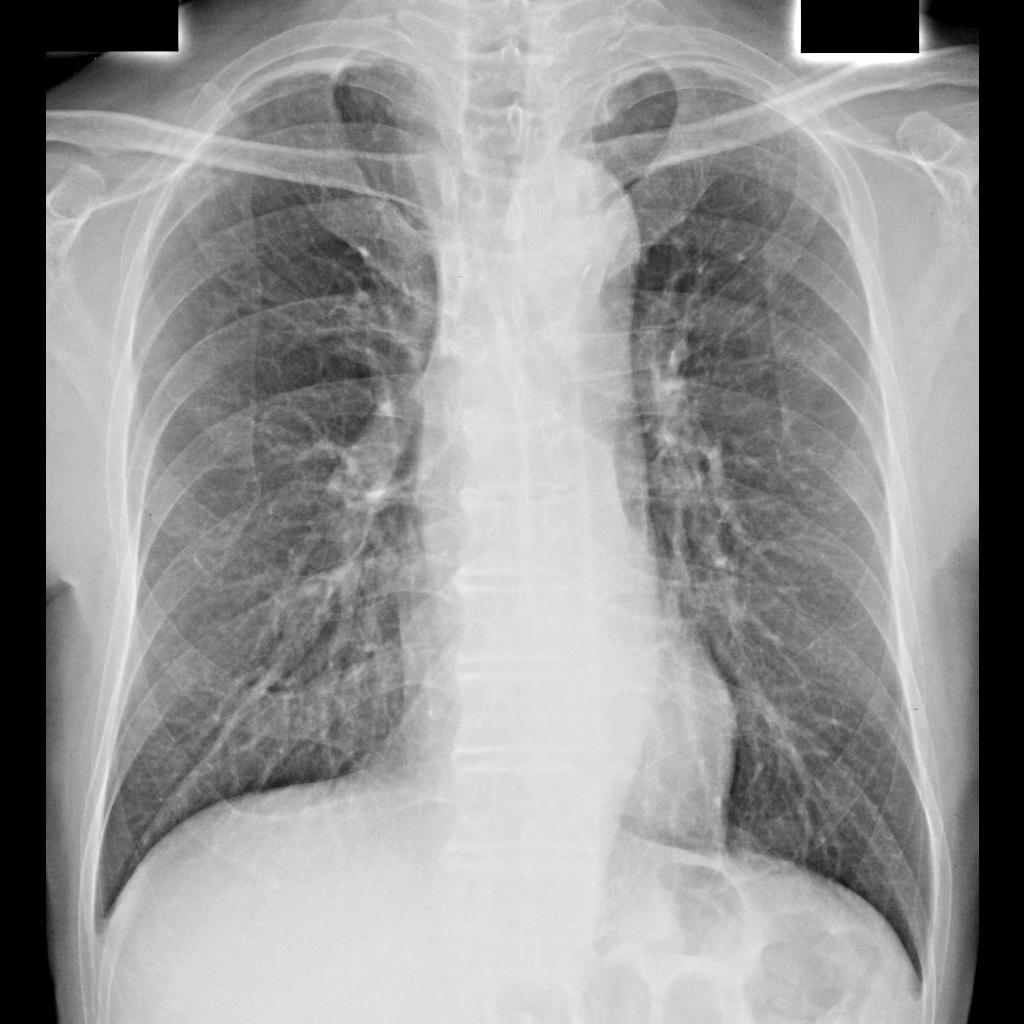Nodule: (220, 288, 254, 322)
